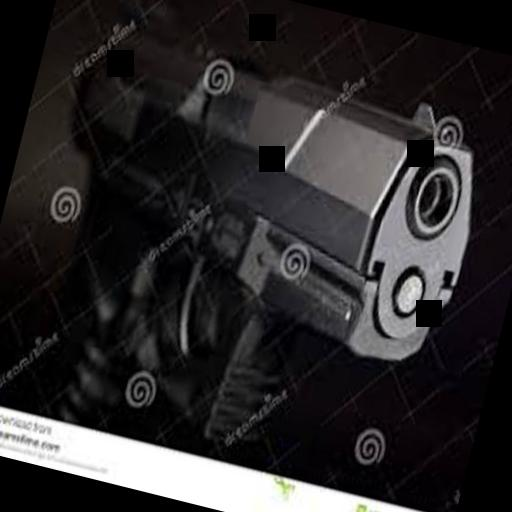Handgun: (4, 0, 508, 510)
